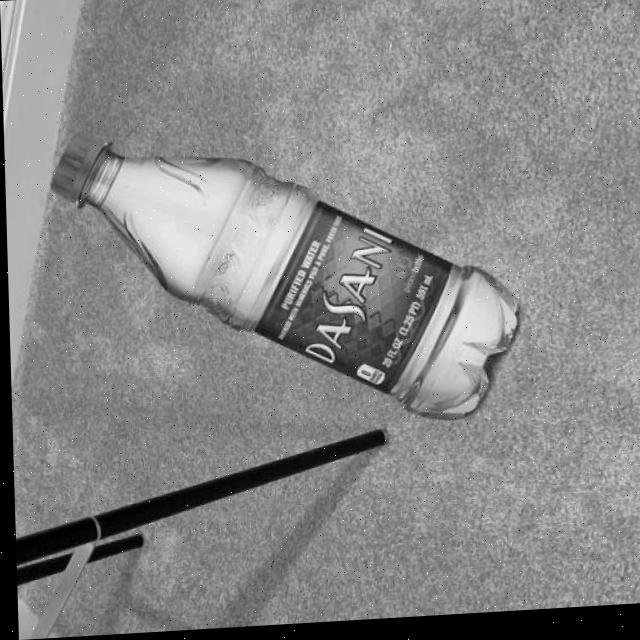bottle: (46, 113, 519, 446)
